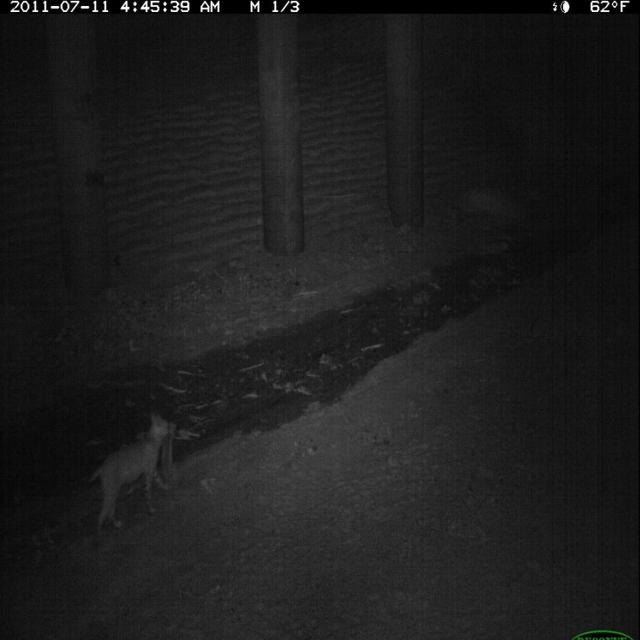bobcat: (88, 405, 184, 544)
rabbit: (161, 421, 178, 488)
